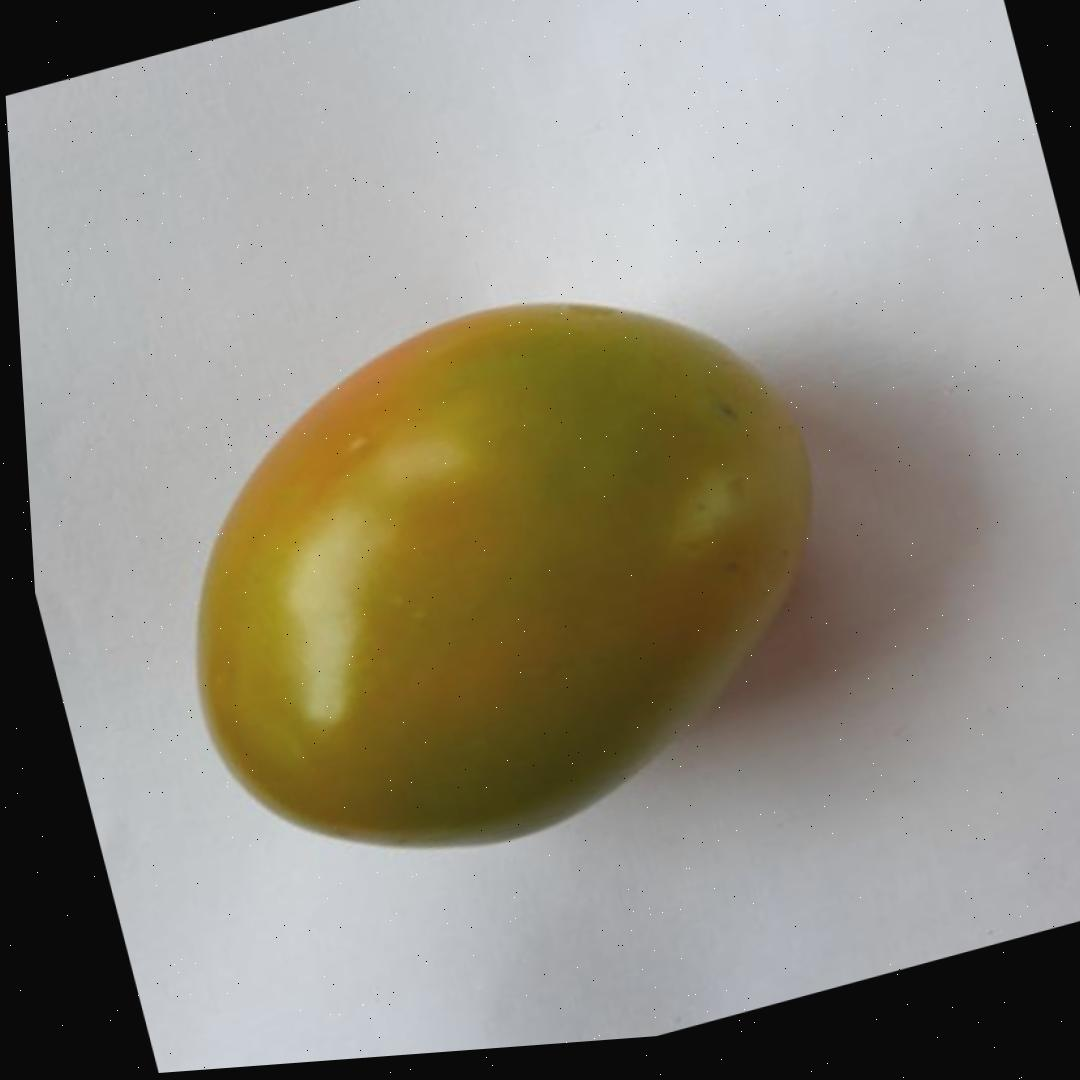setengah_matang: (105, 220, 897, 931)
